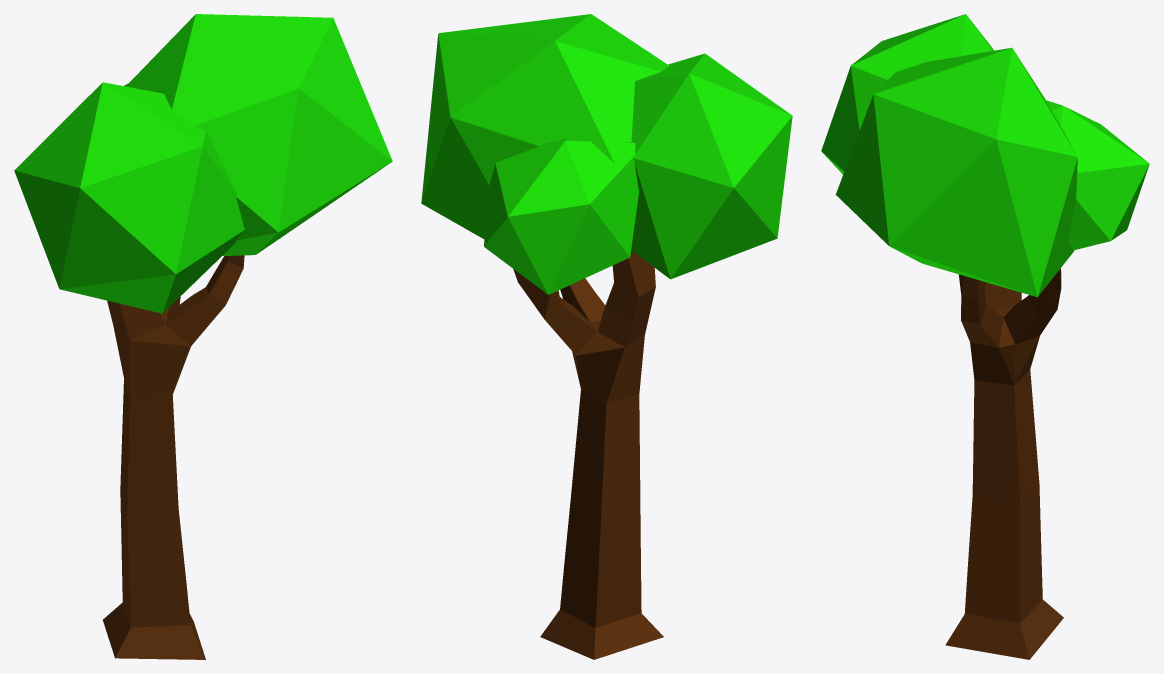
Rendered from Baum_1.fbx.
3 renders of one model, left to right at view 1: azimuth 30°, elevation 25°; view 2: azimuth 150°, elevation 25°; view 3: azimuth 270°, elevation 25°, orthographic. The views are drawn at different scales.
Parts seen in each view (by area): view 1: Icosphere.002, Stump; view 2: Icosphere.002, Stump; view 3: Icosphere.002, Stump.
Part boxes in pixels (bbox=[...]): Icosphere.002: bbox=[14, 14, 392, 313]; Stump: bbox=[103, 255, 244, 659]; Icosphere.002: bbox=[421, 14, 792, 294]; Stump: bbox=[513, 250, 663, 659]; Icosphere.002: bbox=[821, 14, 1149, 297]; Stump: bbox=[945, 268, 1063, 659].
Bounding box in the file's own units: 194 × 357 × 175.
